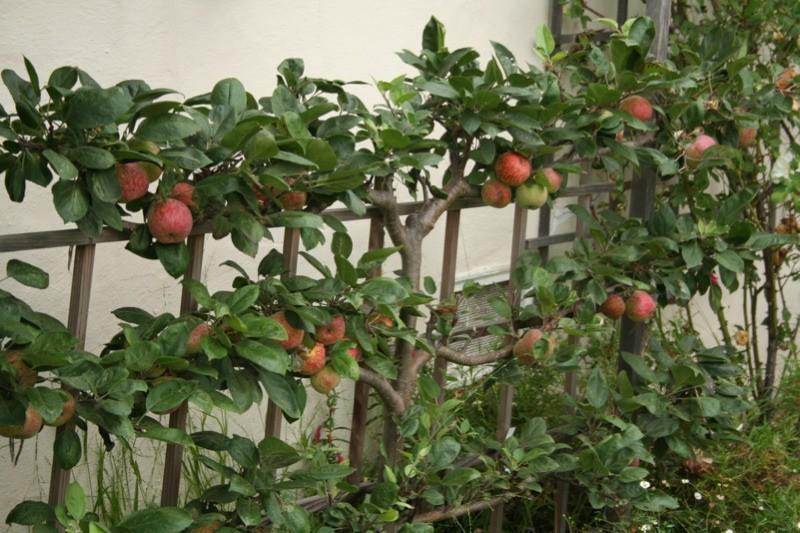apple: (146, 195, 194, 245), (1, 397, 44, 438), (116, 157, 149, 200), (494, 150, 531, 186), (5, 349, 34, 392), (314, 312, 347, 347), (515, 176, 549, 209), (294, 341, 326, 375), (480, 177, 513, 208), (618, 95, 654, 122)
